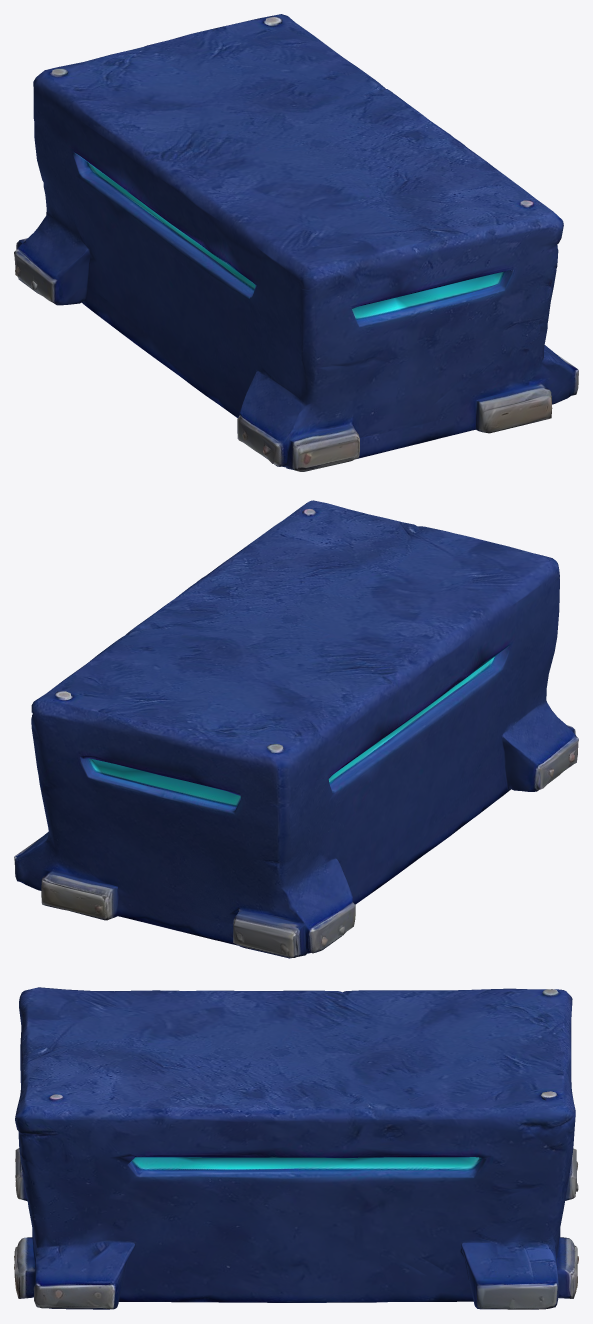
The model's file is barrier.glb.
3 renders of one model, top to bottom at view 1: azimuth 30°, elevation 25°; view 2: azimuth 150°, elevation 25°; view 3: azimuth 270°, elevation 25°, orthographic.
Parts seen in each view (by area): view 1: tripo_node_0a30fd3d-60f1-4371-a92d-748eebc8ebe1; view 2: tripo_node_0a30fd3d-60f1-4371-a92d-748eebc8ebe1; view 3: tripo_node_0a30fd3d-60f1-4371-a92d-748eebc8ebe1.
Part boxes in pixels (left/top/right/bottom): tripo_node_0a30fd3d-60f1-4371-a92d-748eebc8ebe1: left=14, top=14, right=578, bottom=471; tripo_node_0a30fd3d-60f1-4371-a92d-748eebc8ebe1: left=14, top=500, right=578, bottom=958; tripo_node_0a30fd3d-60f1-4371-a92d-748eebc8ebe1: left=14, top=987, right=578, bottom=1309.
Bounding box in the file's own units: 0.6133 × 0.3853 × 0.9834.
Materials: 1 (1 with a texture image).
